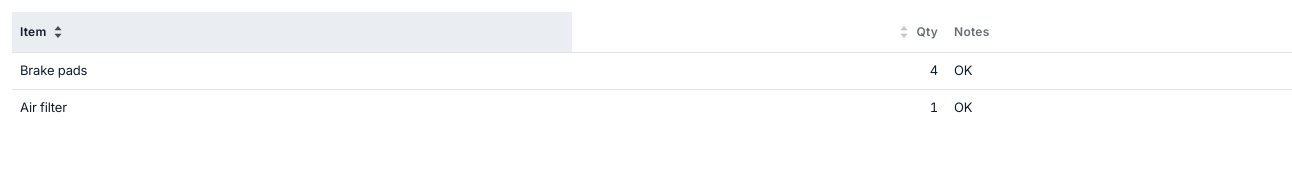
Scenario: DataTable loading skeleton and sorting headers › renders standardized sortable headers with tabular-nums alignment in Shadcn Table
This screenshot has width=1292, height=172.
What coordinates should you click on to do the following:
click the button "Qty"
I would click on:
 (927, 31)
Its box is [572, 12, 946, 52].
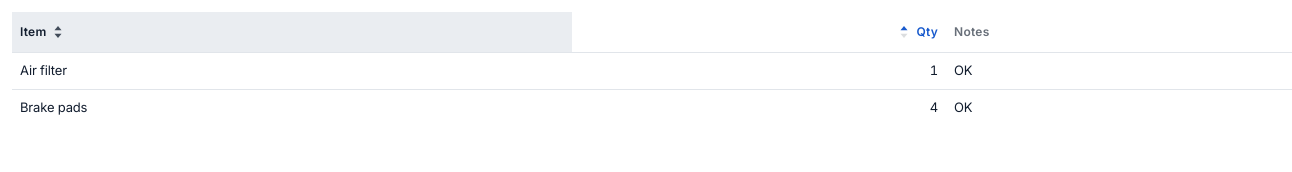
Expected: the column heading "Qty" has attribute aria-sort="ascending", [572, 12, 946, 52]
Expected: the 2nd element with class "table-sort-indicator" has attribute data-sort-direction="asc", [900, 25, 910, 39]
